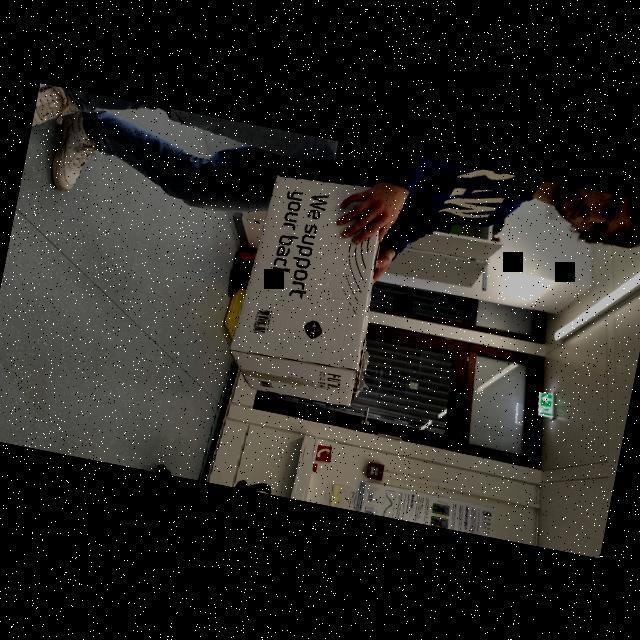cardboard_box: (204, 148, 424, 430)
